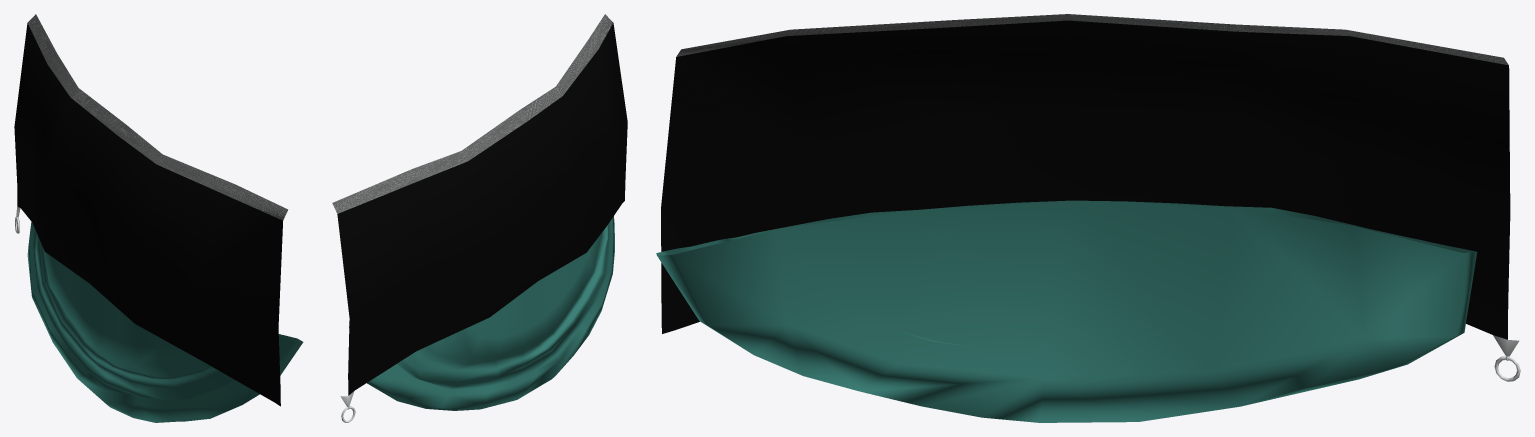
3 renders of one model, left to right at view 1: azimuth 30°, elevation 25°; view 2: azimuth 150°, elevation 25°; view 3: azimuth 270°, elevation 25°, orthographic. The views are drawn at different scales.
Parts seen in each view (by area): view 1: G:\FFXIV-MapTools\exports\s1f3\bg\ffxiv\sea_s1\fld\s1f3\bgpa (×4); view 2: G:\FFXIV-MapTools\exports\s1f3\bg\ffxiv\sea_s1\fld\s1f3\bgpa (×4); view 3: G:\FFXIV-MapTools\exports\s1f3\bg\ffxiv\sea_s1\fld\s1f3\bgpa (×4).
Boxes of the visible parts, <box> form: G:\FFXIV-MapTools\exports\s1f3\bg\ffxiv\sea_s1\fld\s1f3\bgpa (×4): <box>14,14,303,422</box>; G:\FFXIV-MapTools\exports\s1f3\bg\ffxiv\sea_s1\fld\s1f3\bgpa (×4): <box>332,14,627,410</box>; G:\FFXIV-MapTools\exports\s1f3\bg\ffxiv\sea_s1\fld\s1f3\bgpa (×4): <box>656,14,1510,422</box>.
Size of the model in its own units: 1.19 by 3.85 by 7.11.
